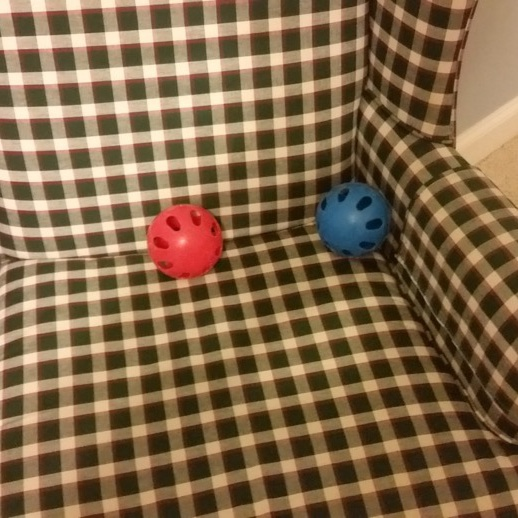blueball: (311, 178, 398, 261)
redball: (145, 201, 226, 282)
